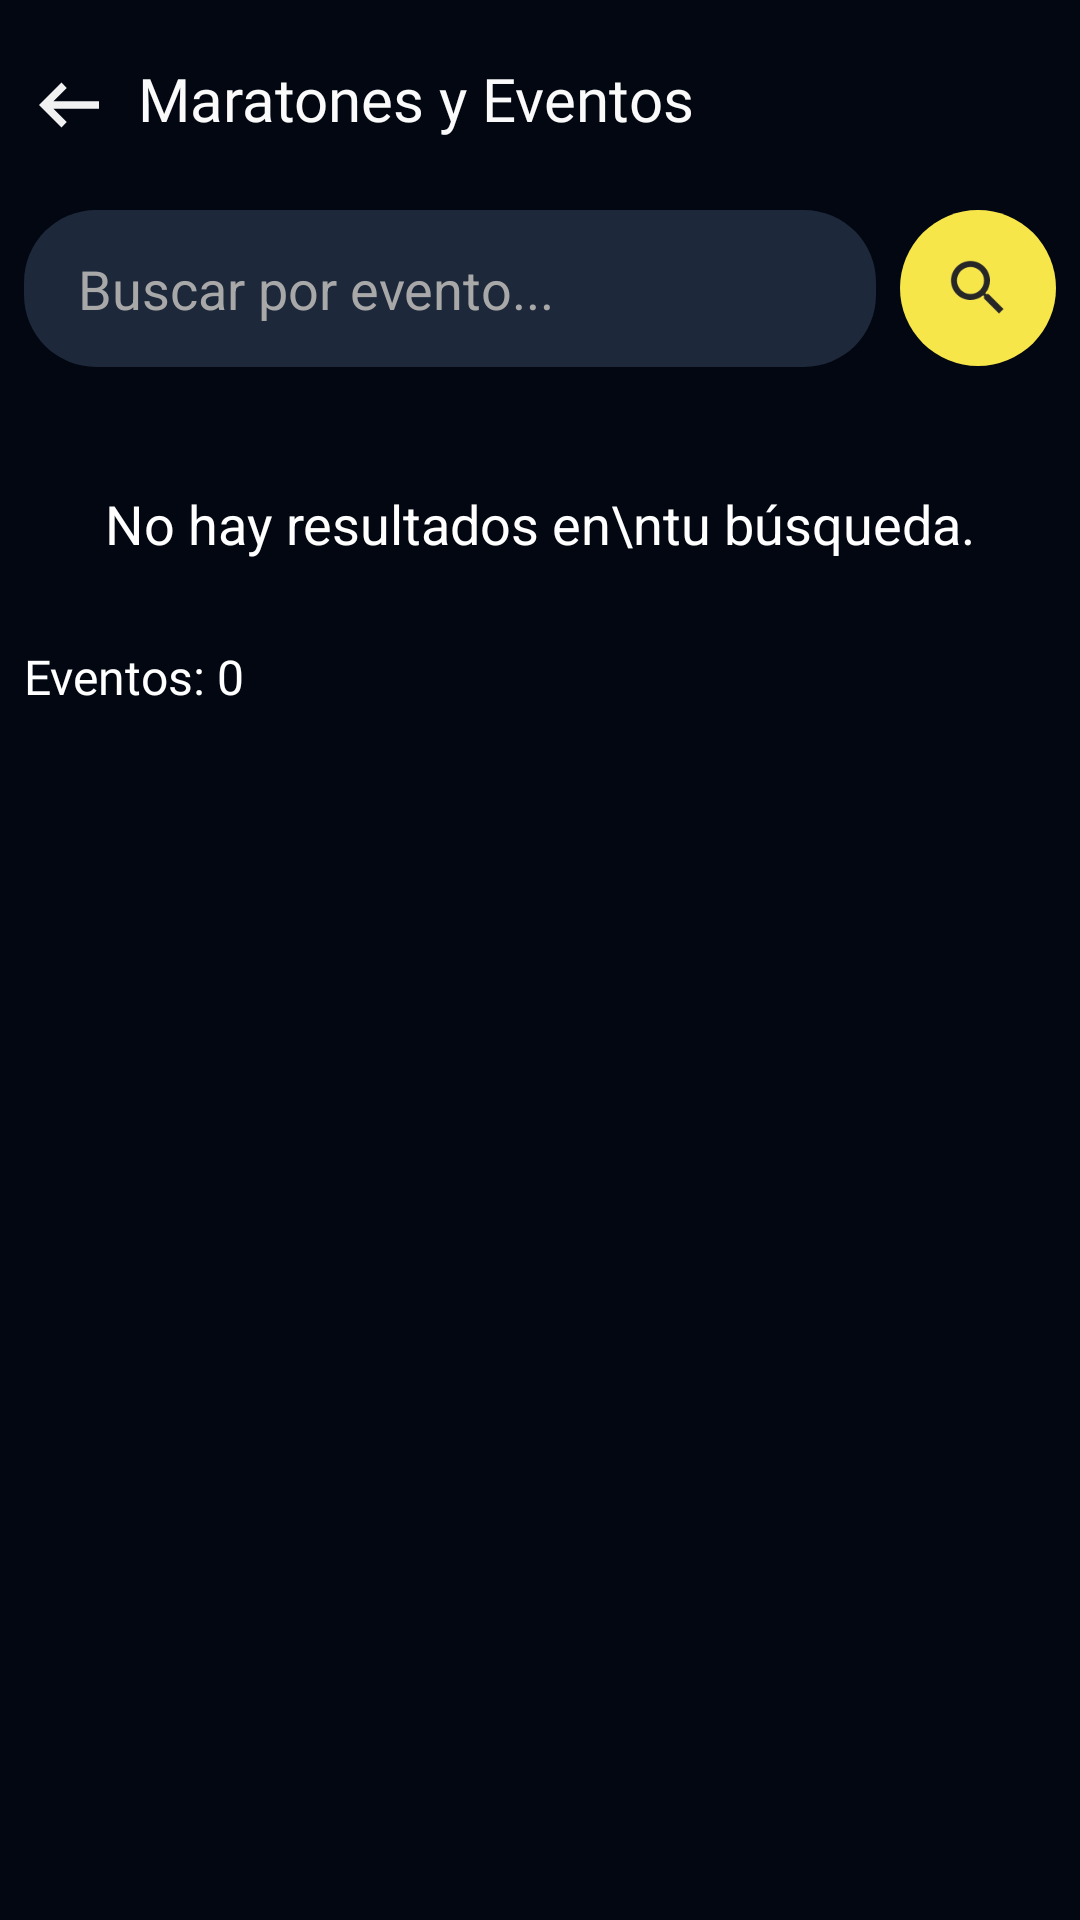

Icon click points for this 1080px×1920px phone screenshot, format (x=x, y=y):
arrow left: (x=69, y=105)
search: (x=978, y=288)
